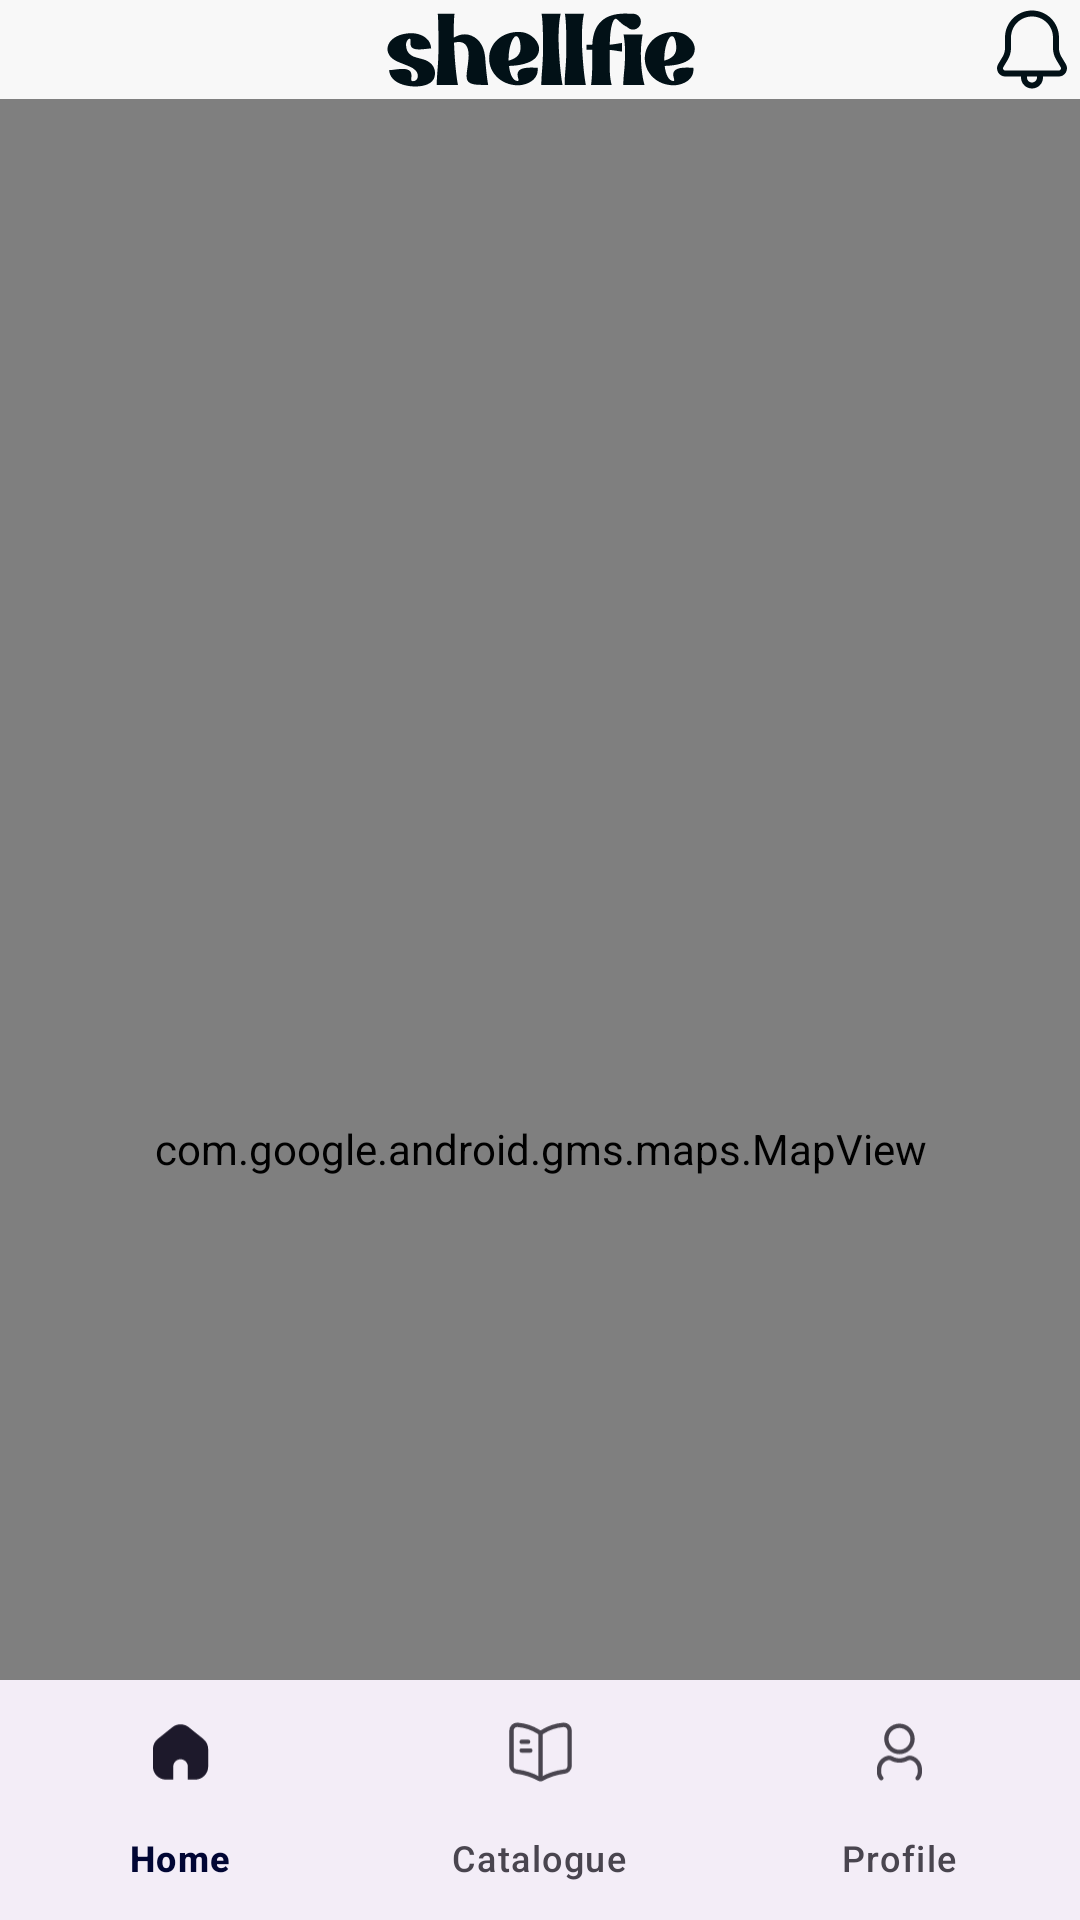

Named icons in this screenshot (1080px x 1920px) and their centers, (x=x, y=y):
bell: (x=1032, y=49)
